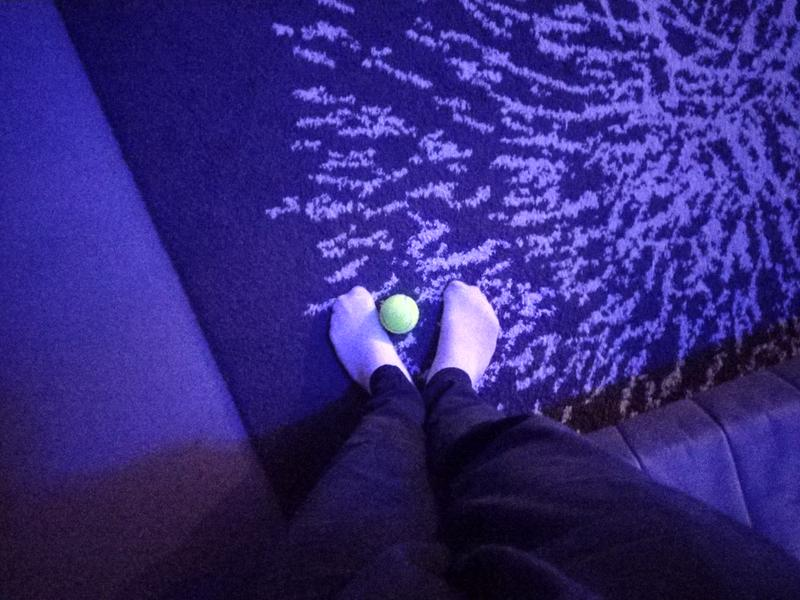Tennisball: (377, 289, 422, 334)
